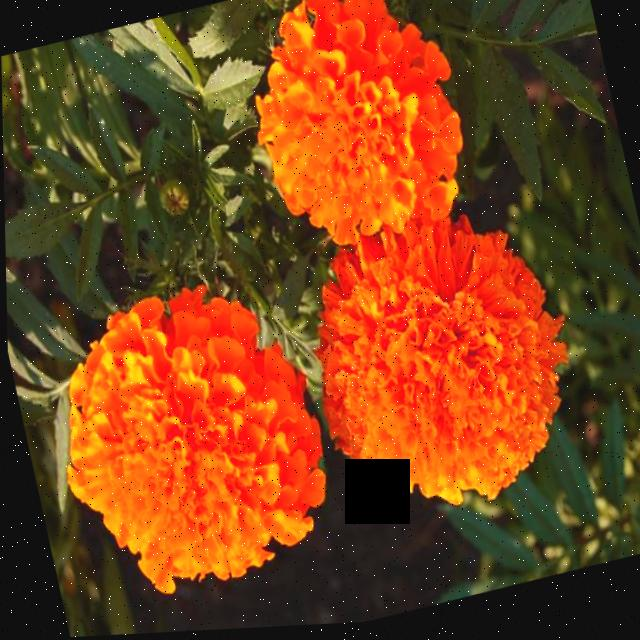marigold: (0, 0, 624, 640)
